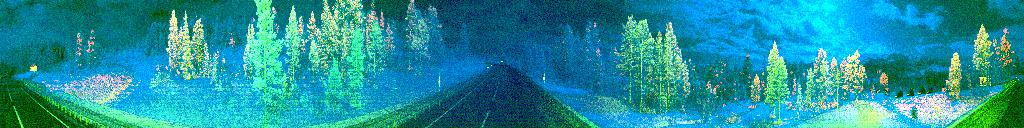pole: (541, 67, 547, 88), (436, 70, 441, 93)
